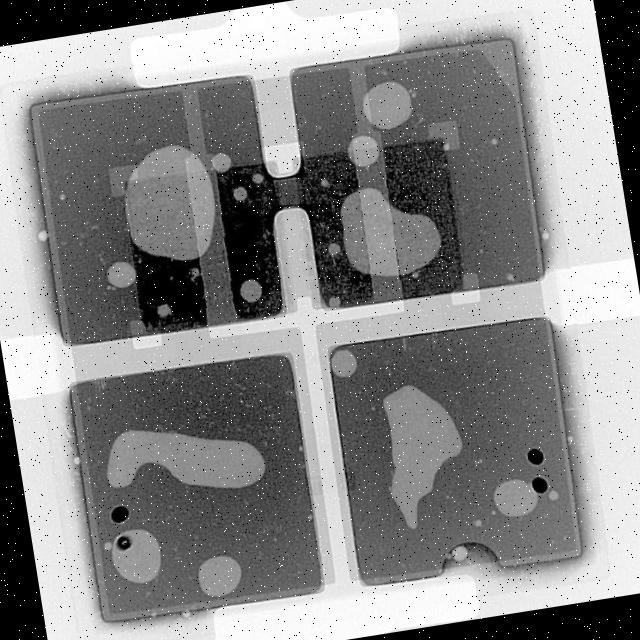chip: (280, 30, 557, 317), (321, 307, 596, 596), (21, 68, 292, 351), (61, 348, 332, 628)
void: (378, 381, 466, 534), (119, 140, 217, 263), (99, 427, 270, 493), (336, 186, 442, 280), (105, 527, 168, 586), (356, 76, 415, 134), (190, 553, 243, 600), (490, 476, 542, 521), (339, 133, 381, 173), (103, 259, 136, 293), (328, 350, 358, 384), (239, 275, 264, 302), (207, 152, 231, 173), (229, 184, 251, 204), (450, 545, 470, 565), (248, 169, 267, 189), (153, 302, 173, 320), (323, 240, 341, 259)
